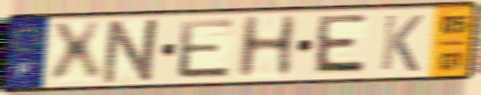E: (176, 16, 237, 81), (309, 12, 369, 77)
H: (233, 13, 301, 81)
K: (377, 13, 426, 74)
N: (98, 16, 166, 86)
X: (48, 19, 105, 86)
